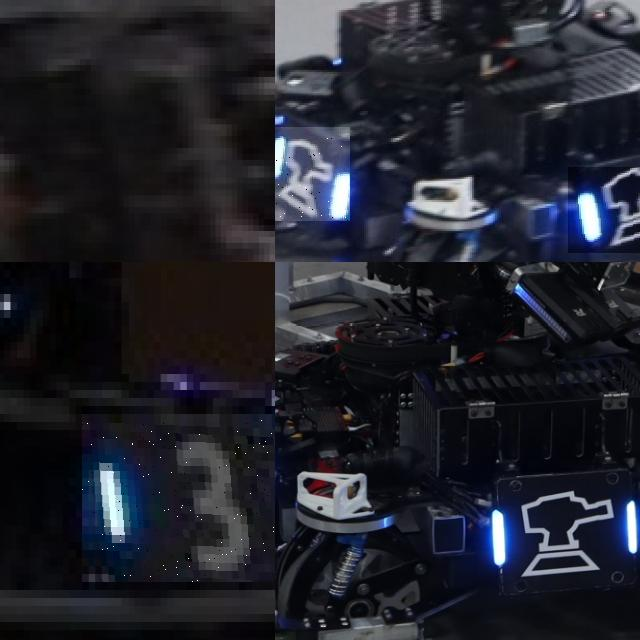B3: (82, 414, 275, 582)
Bs: (484, 485, 640, 580), (275, 126, 349, 221), (567, 167, 640, 252)
